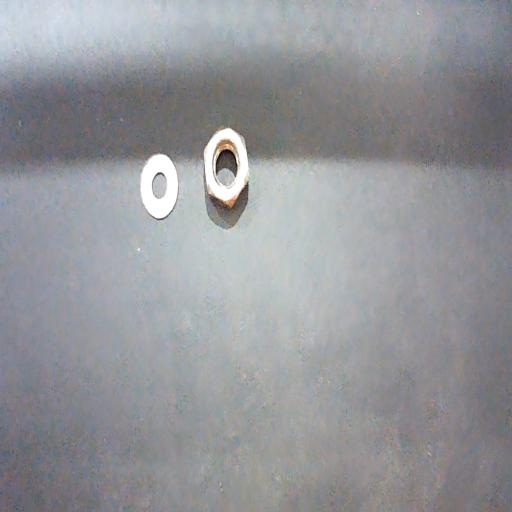nut: (202, 127, 248, 207)
washer: (141, 153, 178, 220)
